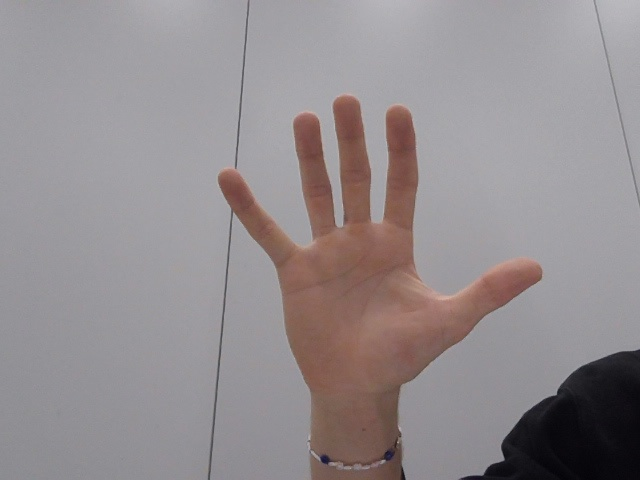nada: (200, 85, 555, 421)
